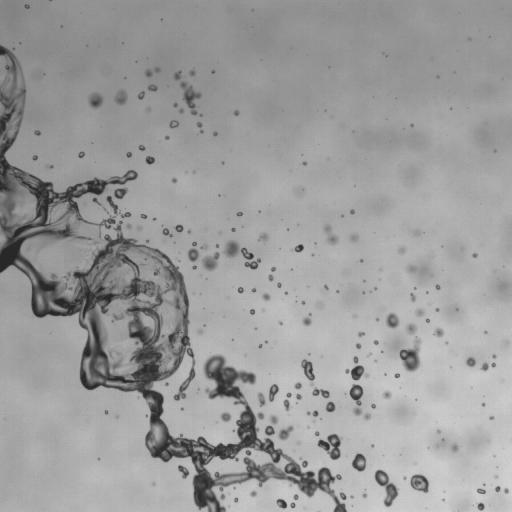droplet: (399, 337, 421, 371), (317, 433, 341, 459), (345, 356, 369, 380), (201, 252, 219, 270), (410, 474, 428, 492), (351, 453, 366, 471), (187, 242, 199, 262), (88, 93, 102, 108), (278, 426, 293, 440), (386, 313, 399, 328), (268, 384, 279, 401), (115, 90, 127, 104), (114, 187, 127, 198), (178, 465, 189, 478), (406, 324, 416, 335), (325, 401, 335, 412), (276, 498, 286, 508), (220, 412, 231, 421), (258, 232, 268, 241), (302, 315, 311, 325), (433, 328, 443, 337), (466, 357, 475, 367), (293, 244, 303, 252), (145, 156, 154, 164), (162, 228, 171, 236), (175, 224, 183, 232), (383, 391, 391, 399), (148, 84, 157, 91), (169, 120, 178, 127), (415, 309, 424, 316), (407, 265, 415, 272), (262, 293, 270, 300), (451, 444, 458, 452), (477, 502, 484, 510), (145, 69, 152, 76), (294, 382, 301, 389), (174, 71, 180, 79), (138, 91, 144, 99), (350, 235, 357, 241), (398, 247, 405, 253), (363, 413, 370, 419), (410, 293, 415, 301), (477, 488, 485, 493), (78, 151, 84, 157), (237, 287, 243, 293), (34, 130, 41, 135), (268, 274, 273, 281), (189, 70, 195, 75), (139, 145, 145, 150), (355, 343, 361, 348), (295, 394, 301, 399), (250, 491, 256, 496), (293, 494, 298, 500), (290, 502, 295, 508), (126, 152, 131, 157), (317, 303, 322, 308), (394, 373, 399, 378), (495, 486, 500, 491), (140, 214, 146, 218), (201, 245, 207, 249), (358, 332, 364, 336), (234, 110, 238, 115), (33, 155, 37, 160), (172, 178, 176, 183), (350, 209, 354, 214), (237, 212, 242, 216), (126, 223, 130, 228), (472, 253, 477, 257), (277, 282, 281, 287), (324, 285, 328, 290), (250, 309, 254, 314), (373, 340, 378, 344), (315, 431, 319, 436), (504, 488, 508, 493), (25, 4, 29, 8), (173, 103, 177, 107), (179, 109, 183, 113), (302, 161, 306, 165), (271, 267, 275, 271), (435, 285, 439, 289), (198, 330, 202, 334), (371, 404, 375, 408), (362, 493, 366, 497), (155, 68, 159, 71), (300, 188, 303, 192), (213, 132, 216, 135), (49, 165, 52, 168), (103, 207, 106, 210), (414, 231, 417, 234), (193, 266, 196, 269), (252, 288, 255, 291), (426, 319, 429, 322), (279, 321, 282, 324), (505, 341, 508, 344), (259, 344, 262, 347), (492, 355, 495, 358), (165, 382, 168, 385), (482, 403, 485, 406), (490, 416, 493, 419), (437, 430, 440, 433), (234, 498, 237, 501), (147, 108, 150, 110), (166, 136, 168, 139), (138, 226, 140, 229), (232, 228, 234, 231), (187, 230, 190, 232), (302, 301, 304, 304), (436, 308, 438, 311), (376, 318, 379, 320), (495, 475, 497, 478), (485, 331, 487, 333), (368, 354, 370, 356), (105, 411, 107, 413)
ligament: (0, 45, 347, 511), (223, 241, 259, 269), (374, 469, 398, 506), (180, 81, 201, 114), (348, 384, 363, 415), (301, 359, 315, 385), (324, 224, 338, 244), (312, 388, 329, 398), (283, 392, 291, 410), (481, 362, 495, 370), (257, 392, 265, 406), (307, 410, 318, 416), (197, 122, 202, 132)
